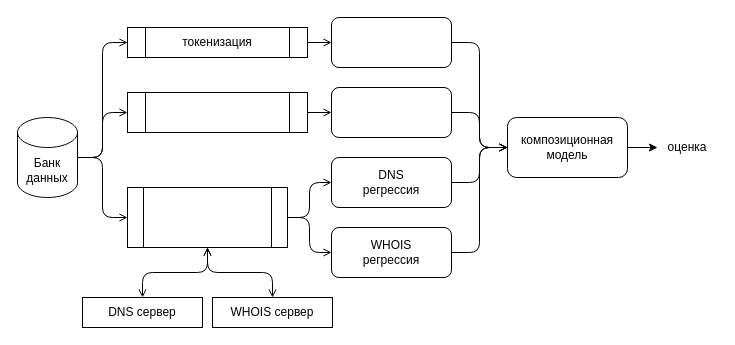
Some shapes in this 735 by 345 pixel diagram are drawn without their labels. Here are the shapes that lost their labels. From the top down, the box of each, then its label:
(330, 16, 452, 68): DGA классификатор
(126, 92, 308, 132): предобработка семантики
(330, 86, 452, 138): семантический анализ
(126, 186, 288, 248): обогащение и предобработка данных
